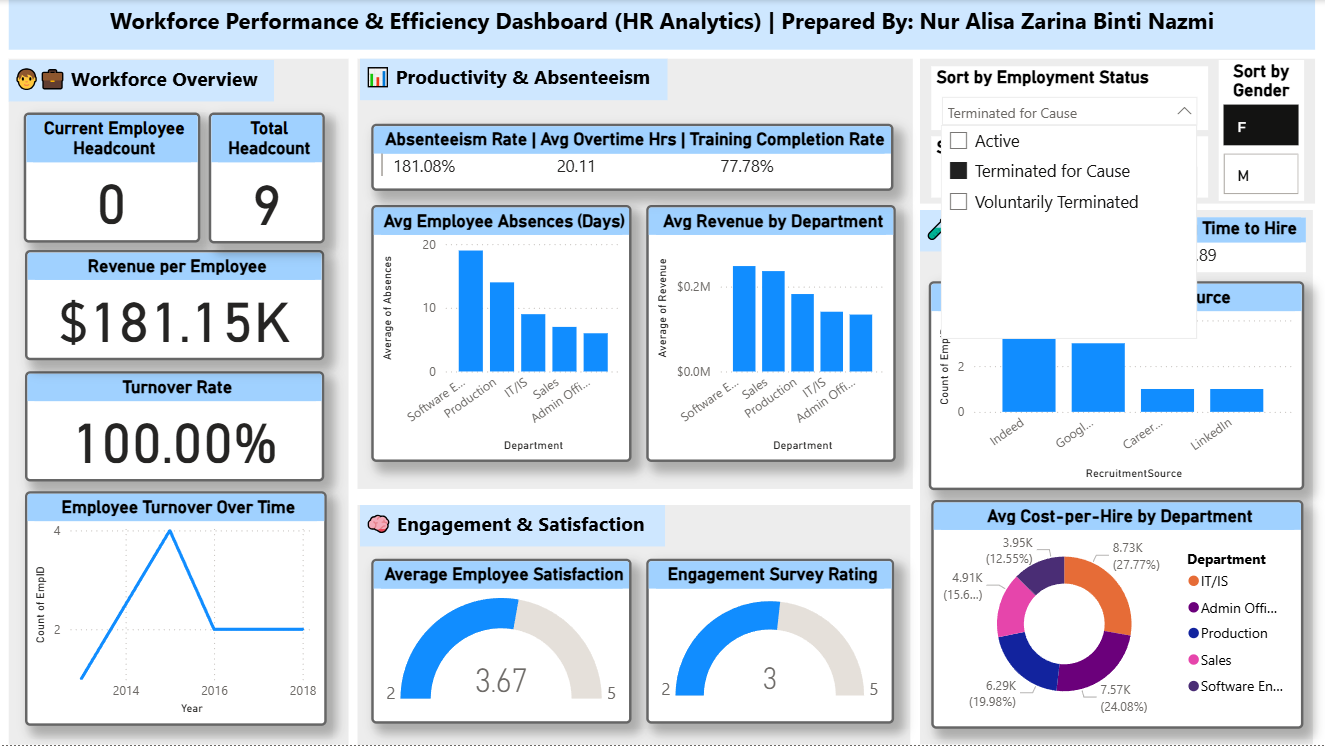

What the dashboard file says about the page in this screenshot:
{"tool":"powerbi","page":{"name":"Executive Overview","canvas":[1280,720],"ordinal":0},"visuals":[{"type":"shape","box":[887.6,57.2,381.3,139.8],"z":0},{"type":"shape","box":[345.3,487.2,533.8,233],"z":1000},{"type":"shape","box":[887.5,203.1,379.2,516.9],"z":2000},{"type":"shape","box":[345.3,57.2,536,415.2],"z":3000},{"type":"shape","box":[8.5,57.2,328.4,663.1],"z":4000},{"type":"textbox","box":[8.7,0,1261,47.8],"z":5000},{"type":"card","title":"Current Employee Headcount","fields":{"Values":["cleaned_hr_data.Headcount"]},"box":[22.9,108.6,170.1,125.5],"z":6000},{"type":"card","title":"Turnover Rate","fields":{"Values":["cleaned_hr_data.Turnover Rate"]},"box":[23.9,358.7,289.2,106.5],"z":7000},{"type":"gauge","title":"Average Employee Satisfaction","fields":{"MaxValue":["Max(cleaned_hr_data.EmpSatisfaction)1"],"MinValue":["Min(cleaned_hr_data.EmpSatisfaction)2"],"Y":["Avg(cleaned_hr_data.EmpSatisfaction)"]},"box":[358.3,539.9,251.5,159.5],"z":8000},{"type":"gauge","title":"Engagement Survey Rating","fields":{"MaxValue":["Max(cleaned_hr_data.EngagementSurvey)2"],"MinValue":["Min(cleaned_hr_data.EngagementSurvey)1"],"Y":["Avg(cleaned_hr_data.EngagementSurvey)"]},"box":[623.3,539.9,239.3,159.5],"z":9000},{"type":"columnChart","title":"Avg Employee Absences (Days)","fields":{"Category":["cleaned_hr_data.Department"],"Y":["Avg(cleaned_hr_data.Absences)"]},"box":[358.3,197.5,251.5,247.9],"z":10000},{"type":"columnChart","title":"Hires by Recruitment Source","fields":{"Category":["cleaned_hr_data.RecruitmentSource"],"Y":["CountNonNull(cleaned_hr_data.EmpID)"]},"box":[895.9,270.9,362.3,201.3],"z":11000},{"type":"donutChart","title":"Avg Cost-per-Hire by Department","fields":{"Category":["cleaned_hr_data.Department"],"Y":["Avg(cleaned_hr_data.HiringCost)"]},"box":[898.8,482.6,359.5,220.8],"z":12000},{"type":"columnChart","title":"Avg Revenue by Department","fields":{"Category":["cleaned_hr_data.Department"],"Y":["Avg(cleaned_hr_data.Revenue)"]},"box":[623.3,197.5,240.5,247.9],"z":13000},{"type":"card","title":"Revenue per Employee","fields":{"Values":["Avg(cleaned_hr_data.Revenue)"]},"box":[23.9,241.3,289.2,106.5],"z":14000},{"type":"lineChart","title":"Employee Turnover Over Time","fields":{"Category":["cleaned_hr_data.DateofTermination.Variation.Date Hierarchy.Year","cleaned_hr_data.DateofTermination.Variation.Date Hierarchy.Month"],"Y":["CountNonNull(cleaned_hr_data.EmpID)"]},"box":[23.9,474,291.3,226.1],"z":15000},{"type":"multiRowCard","title":"Absenteeism Rate | Avg Overtime Hrs | Training Completion Rate","fields":{"Values":["cleaned_hr_data.Absenteeism Rate","Avg(cleaned_hr_data.OvertimeHours)","cleaned_hr_data.Training Completion Rate"]},"box":[358.3,119,504.3,65],"z":16000},{"type":"textbox","box":[8.8,57.5,256.2,40],"z":17000},{"type":"textbox","box":[347.4,57.2,296.6,40.3],"z":18000},{"type":"textbox","box":[887.5,203.1,209.7,40.3],"z":19000},{"type":"multiRowCard","title":"Avg Time to Hire","fields":{"Values":["cleaned_hr_data.Avg Time to Hire"]},"box":[1119,209.8,141.1,52.8],"z":20000},{"type":"textbox","box":[347.4,487.2,294.5,40.3],"z":21000},{"type":"slicer","title":"Sort by Employment Status","fields":{"Values":["cleaned_hr_data.EmploymentStatus"]},"box":[898.2,63.6,266.9,61.4],"z":22000},{"type":"slicer","title":"Sort by Department","fields":{"Values":["cleaned_hr_data.Department"]},"box":[898.2,131.3,266.9,59.3],"z":23000},{"type":"advancedSlicerVisual","title":"Sort by Gender","fields":{"Values":["cleaned_hr_data.Sex"]},"box":[1176.3,57.9,82,136.3],"z":24000},{"type":"card","title":"Total Headcount","fields":{"Values":["CountNonNull(cleaned_hr_data.EmpID)"]},"box":[201.5,108.6,112.2,126.7],"z":25000}]}

Visuals, with their boxes in screenshot pixels (x1, y1, x2, y2), scaled from the page's 1280x720 canvas onto the 1325x746 screenshot:
shape: <box>919,59,1314,204</box>
shape: <box>357,505,910,745</box>
shape: <box>919,210,1311,745</box>
shape: <box>357,59,912,489</box>
shape: <box>9,59,349,745</box>
textbox: <box>9,0,1314,50</box>
"Current Employee Headcount" card: <box>24,113,200,243</box>
"Turnover Rate" card: <box>25,372,324,482</box>
"Average Employee Satisfaction" gauge: <box>371,559,631,725</box>
"Engagement Survey Rating" gauge: <box>645,559,893,725</box>
"Avg Employee Absences (Days)" columnChart: <box>371,205,631,461</box>
"Hires by Recruitment Source" columnChart: <box>927,281,1302,489</box>
"Avg Cost-per-Hire by Department" donutChart: <box>930,500,1303,729</box>
"Avg Revenue by Department" columnChart: <box>645,205,894,461</box>
"Revenue per Employee" card: <box>25,250,324,360</box>
"Employee Turnover Over Time" lineChart: <box>25,491,326,725</box>
"Absenteeism Rate | Avg Overtime Hrs | Training Completion Rate" multiRowCard: <box>371,123,893,191</box>
textbox: <box>9,60,274,101</box>
textbox: <box>360,59,667,101</box>
textbox: <box>919,210,1136,252</box>
"Avg Time to Hire" multiRowCard: <box>1158,217,1304,272</box>
textbox: <box>360,505,664,547</box>
"Sort by Employment Status" slicer: <box>930,66,1206,130</box>
"Sort by Department" slicer: <box>930,136,1206,197</box>
"Sort by Gender" advancedSlicerVisual: <box>1218,60,1303,201</box>
"Total Headcount" card: <box>209,113,325,244</box>
